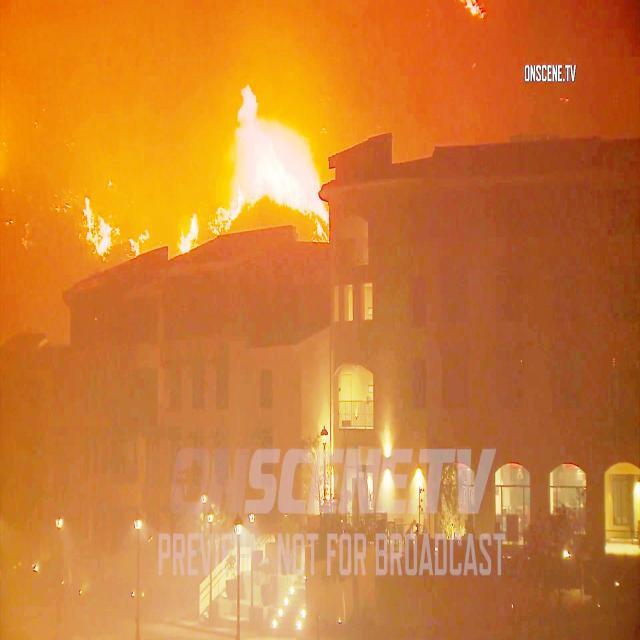Fire: (210, 79, 332, 244), (79, 193, 151, 259), (175, 207, 202, 264), (460, 0, 492, 29)
